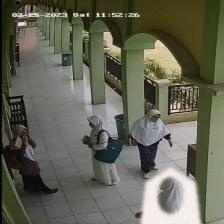Mukena: (139, 167, 202, 224)
